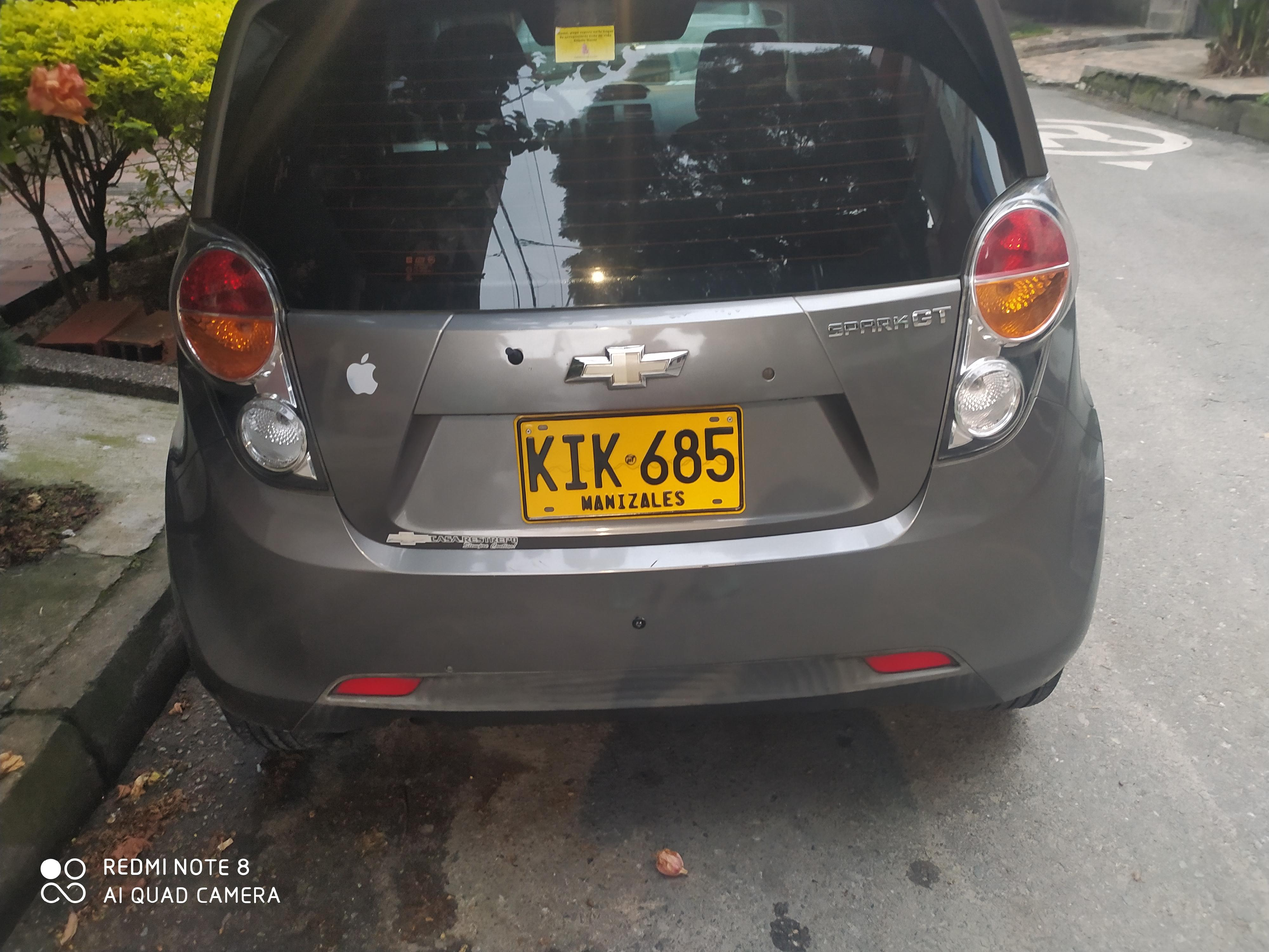placa: (503, 399, 762, 524)
